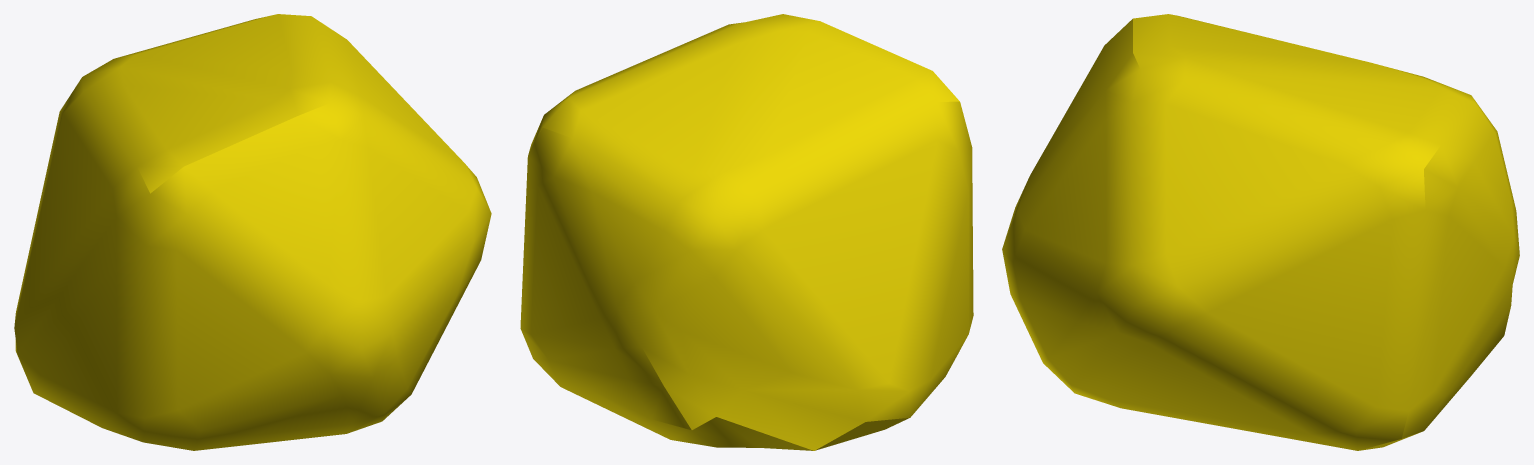
The model's file is Envi_Rock_01_v02.fbx.
The picture shows the model from 3 angles, left to right: view 1: azimuth 30°, elevation 25°; view 2: azimuth 150°, elevation 25°; view 3: azimuth 270°, elevation 25°; orthographic projection. The views are drawn at different scales.
Visible parts, largest first — view 1: Truck_Ex_Set03__Rock_Large_01; view 2: Truck_Ex_Set03__Rock_Large_01; view 3: Truck_Ex_Set03__Rock_Large_01.
Boxes of the visible parts, box(x1,y1,x2,y2) form: Truck_Ex_Set03__Rock_Large_01: box(14, 14, 491, 450); Truck_Ex_Set03__Rock_Large_01: box(520, 14, 973, 450); Truck_Ex_Set03__Rock_Large_01: box(1002, 14, 1519, 450).
Size of the model in its own units: 45.93 by 35.35 by 50.58.
